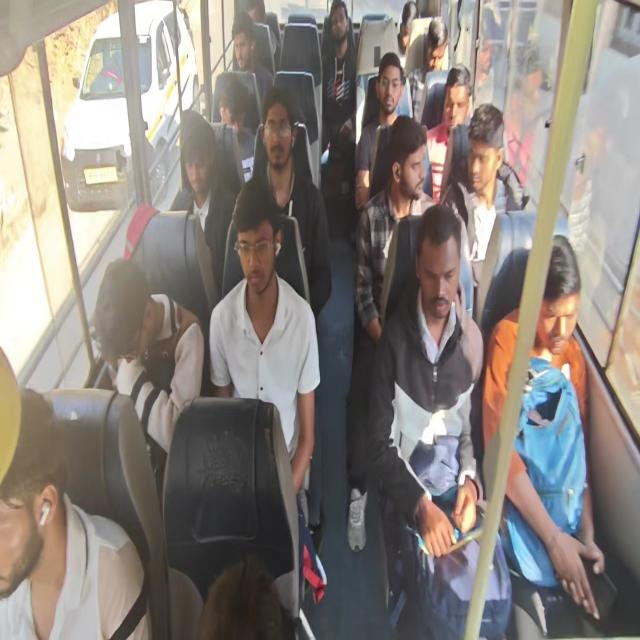person: (366, 203, 512, 638), (481, 233, 605, 619), (346, 114, 436, 551), (0, 386, 152, 639), (208, 178, 321, 511), (92, 256, 205, 460), (250, 85, 332, 318), (440, 102, 528, 317), (122, 203, 218, 394), (171, 120, 238, 298), (320, 1, 357, 240), (196, 553, 293, 639), (354, 52, 405, 212), (212, 12, 274, 132), (422, 64, 472, 204), (213, 75, 256, 188), (410, 16, 449, 122), (232, 0, 281, 77), (396, 0, 418, 55)
